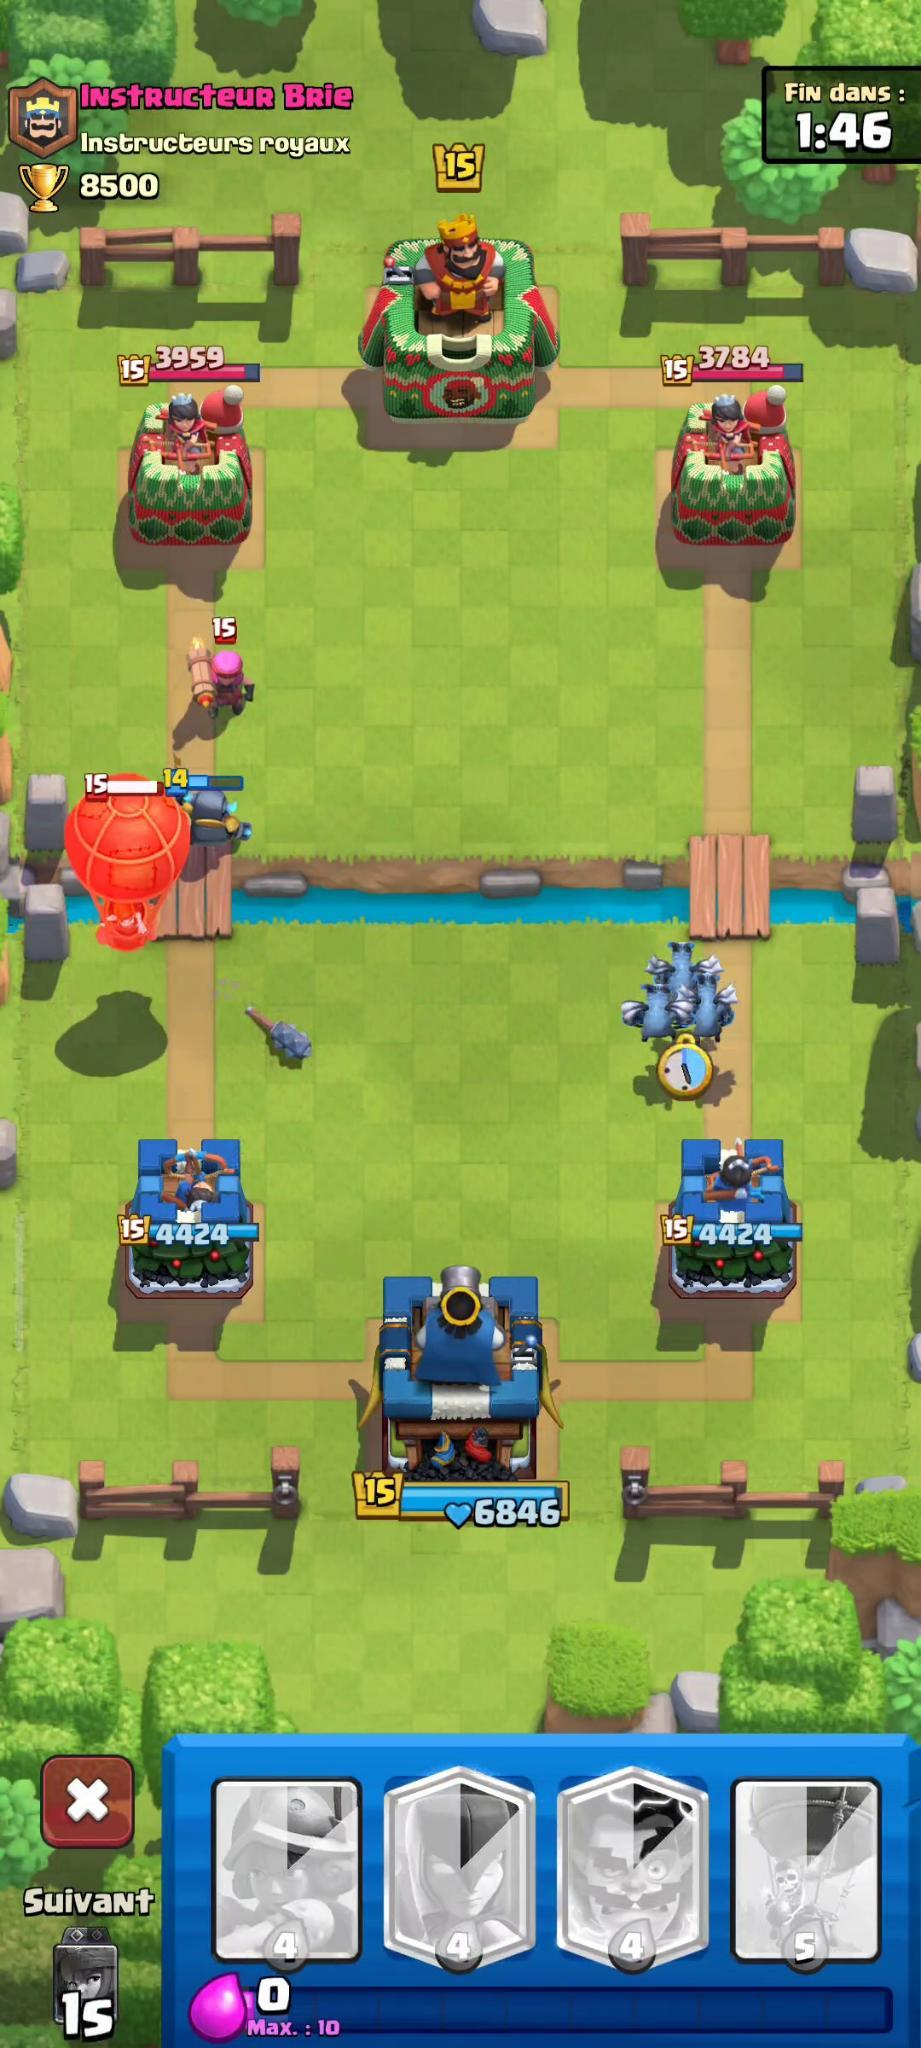enemy_balloon: (57, 763, 196, 962)
enemy_firecracker: (181, 615, 260, 719)
player_mini_pekka: (164, 763, 264, 860)
player_minions: (618, 971, 683, 1047), (681, 963, 741, 1045), (646, 935, 707, 1008)
